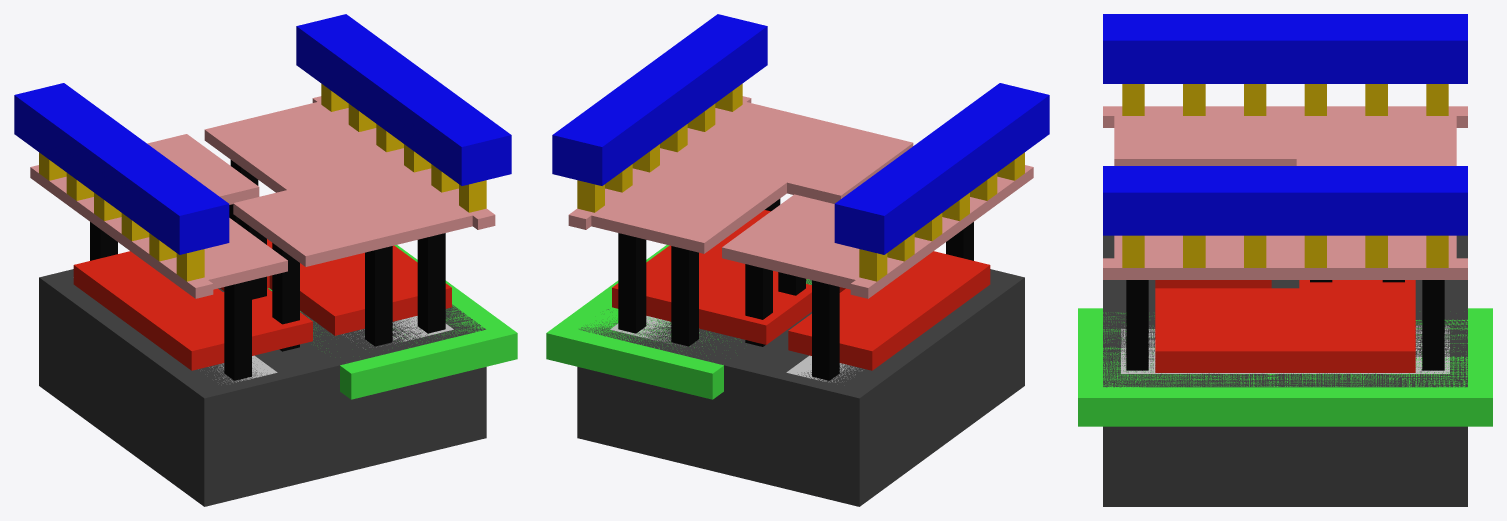
Rendered from sky130_fd_sc_hd__decap_6.obj.
The picture shows the model from 3 angles, left to right: view 1: azimuth 30°, elevation 25°; view 2: azimuth 150°, elevation 25°; view 3: azimuth 270°, elevation 25°; orthographic projection. The views are drawn at different scales.
Parts seen in each view (by area): view 1: subs, li, metal1, poly, licon, nwell, mcon, tap; view 2: subs, li, metal1, poly, licon, nwell, mcon, tap; view 3: metal1, subs, li, nwell, poly, mcon, licon, tap.
Part boxes in pixels (bbox=[...]): subs: bbox=[39, 269, 486, 506]; li: bbox=[30, 96, 495, 298]; metal1: bbox=[14, 14, 511, 254]; poly: bbox=[73, 239, 451, 370]; licon: bbox=[90, 160, 445, 380]; nwell: bbox=[268, 245, 517, 399]; mcon: bbox=[39, 83, 486, 281]; tap: bbox=[343, 316, 453, 349]; subs: bbox=[577, 269, 1024, 506]; li: bbox=[568, 96, 1033, 298]; metal1: bbox=[552, 14, 1049, 254]; poly: bbox=[612, 210, 990, 370]; licon: bbox=[618, 198, 973, 380]; nwell: bbox=[546, 245, 811, 399]; mcon: bbox=[577, 83, 1024, 281]; tap: bbox=[610, 316, 706, 344]; metal1: bbox=[1103, 14, 1467, 235]; subs: bbox=[1103, 235, 1467, 506]; li: bbox=[1103, 106, 1467, 279]; nwell: bbox=[1078, 308, 1492, 426]; poly: bbox=[1155, 280, 1415, 372]; mcon: bbox=[1122, 84, 1448, 267]; licon: bbox=[1126, 280, 1444, 370]; tap: bbox=[1121, 325, 1449, 373].
Size of the model in its own units: 3.2 by 2.74 by 3.14.
